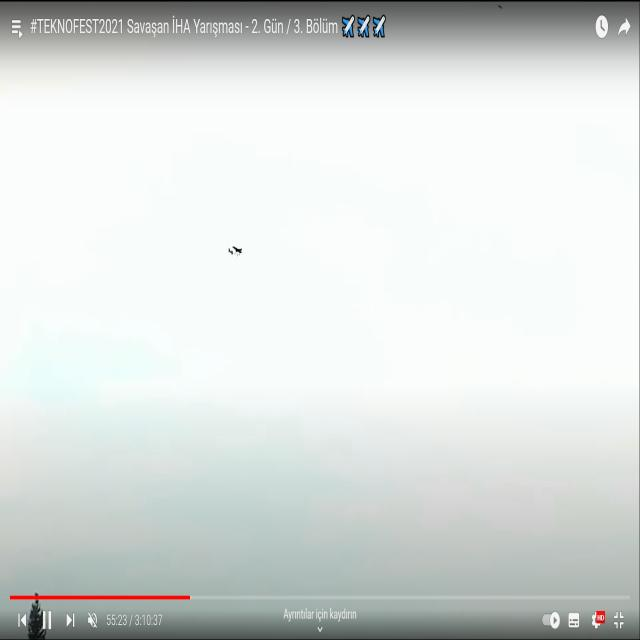iha: (226, 242, 244, 257)
